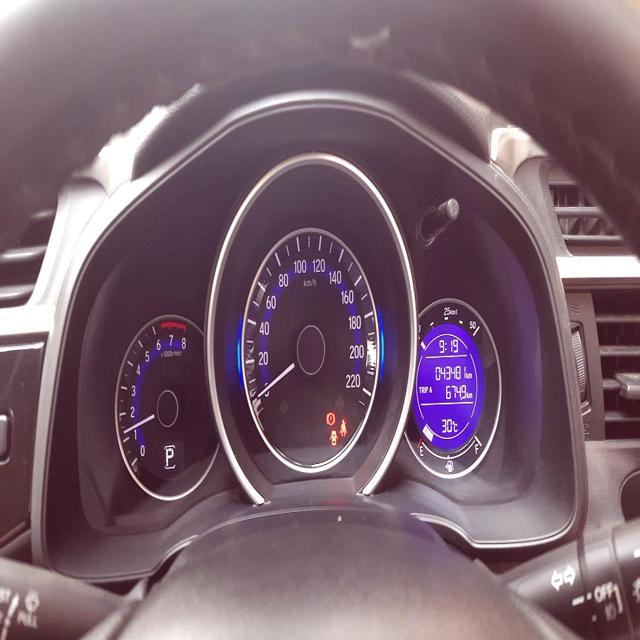odometer: (432, 361, 467, 383)
